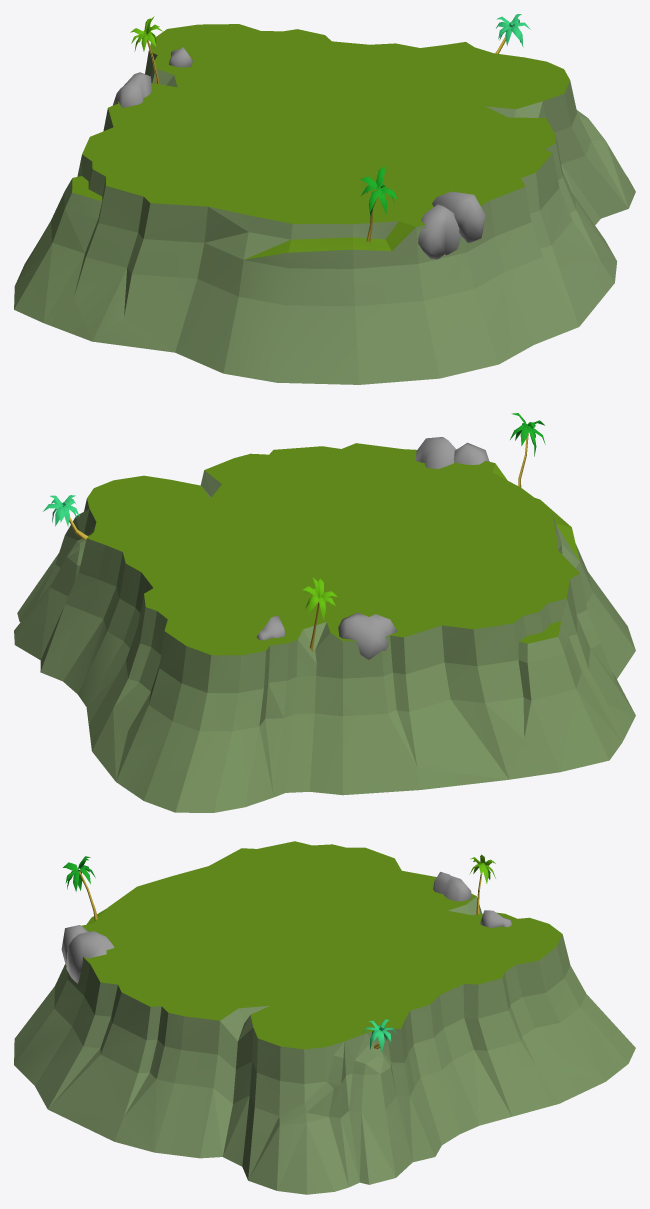
File: islands_09.FBX
3 renders of one model, top to bottom at view 1: azimuth 30°, elevation 25°; view 2: azimuth 150°, elevation 25°; view 3: azimuth 270°, elevation 25°, orthographic. The views are drawn at different scales.
Visible parts, largest first — view 1: Islands_09; view 2: Islands_09; view 3: Islands_09.
Boxes of the visible parts, x1,y1,x2,y2 form: Islands_09: (14, 14, 635, 384); Islands_09: (14, 413, 635, 812); Islands_09: (14, 841, 635, 1194).
Bounding box in the file's own units: 9133 × 2733 × 8963.
